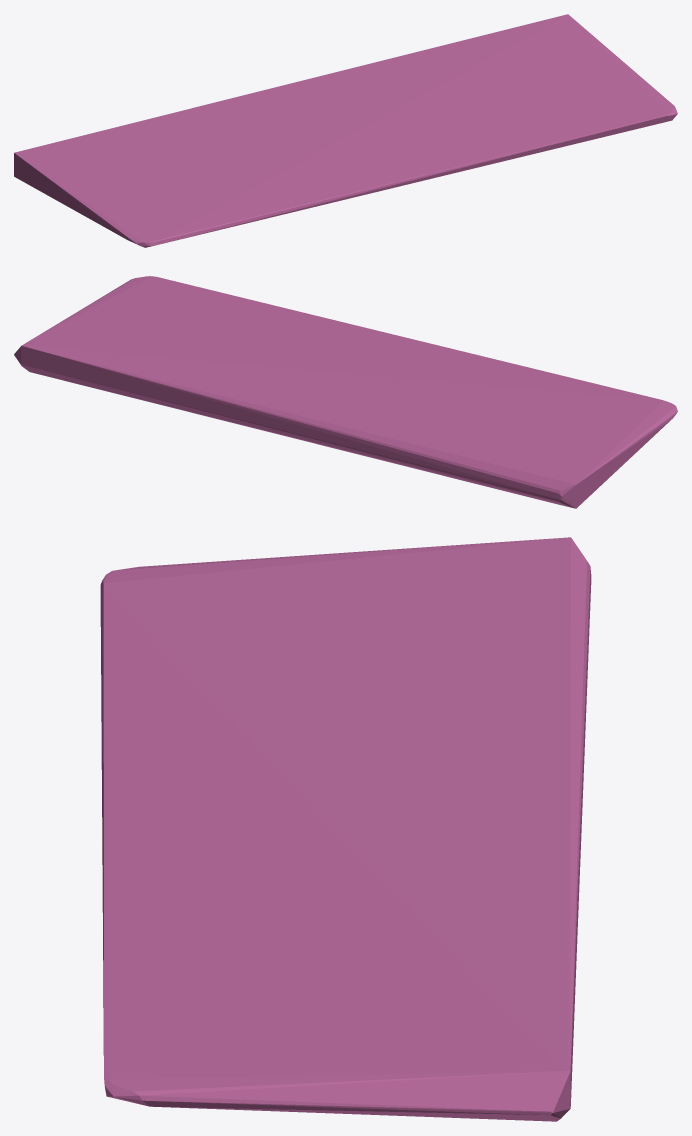
The model's file is barrier_gate_safetyDock_a02.glb.
The picture shows the model from 3 angles, top to bottom: view 1: azimuth 30°, elevation 25°; view 2: azimuth 150°, elevation 25°; view 3: azimuth 270°, elevation 25°; orthographic projection. The views are drawn at different scales.
Parts seen in each view (by area): view 1: geometry_0; view 2: geometry_0; view 3: geometry_0.
Boxes of the visible parts, box(x1,y1,x2,y2) form: geometry_0: box(14, 14, 677, 247); geometry_0: box(14, 276, 677, 508); geometry_0: box(100, 537, 591, 1121).
Bounding box in the file's own units: 0.48 × 0.0224 × 0.1803.
